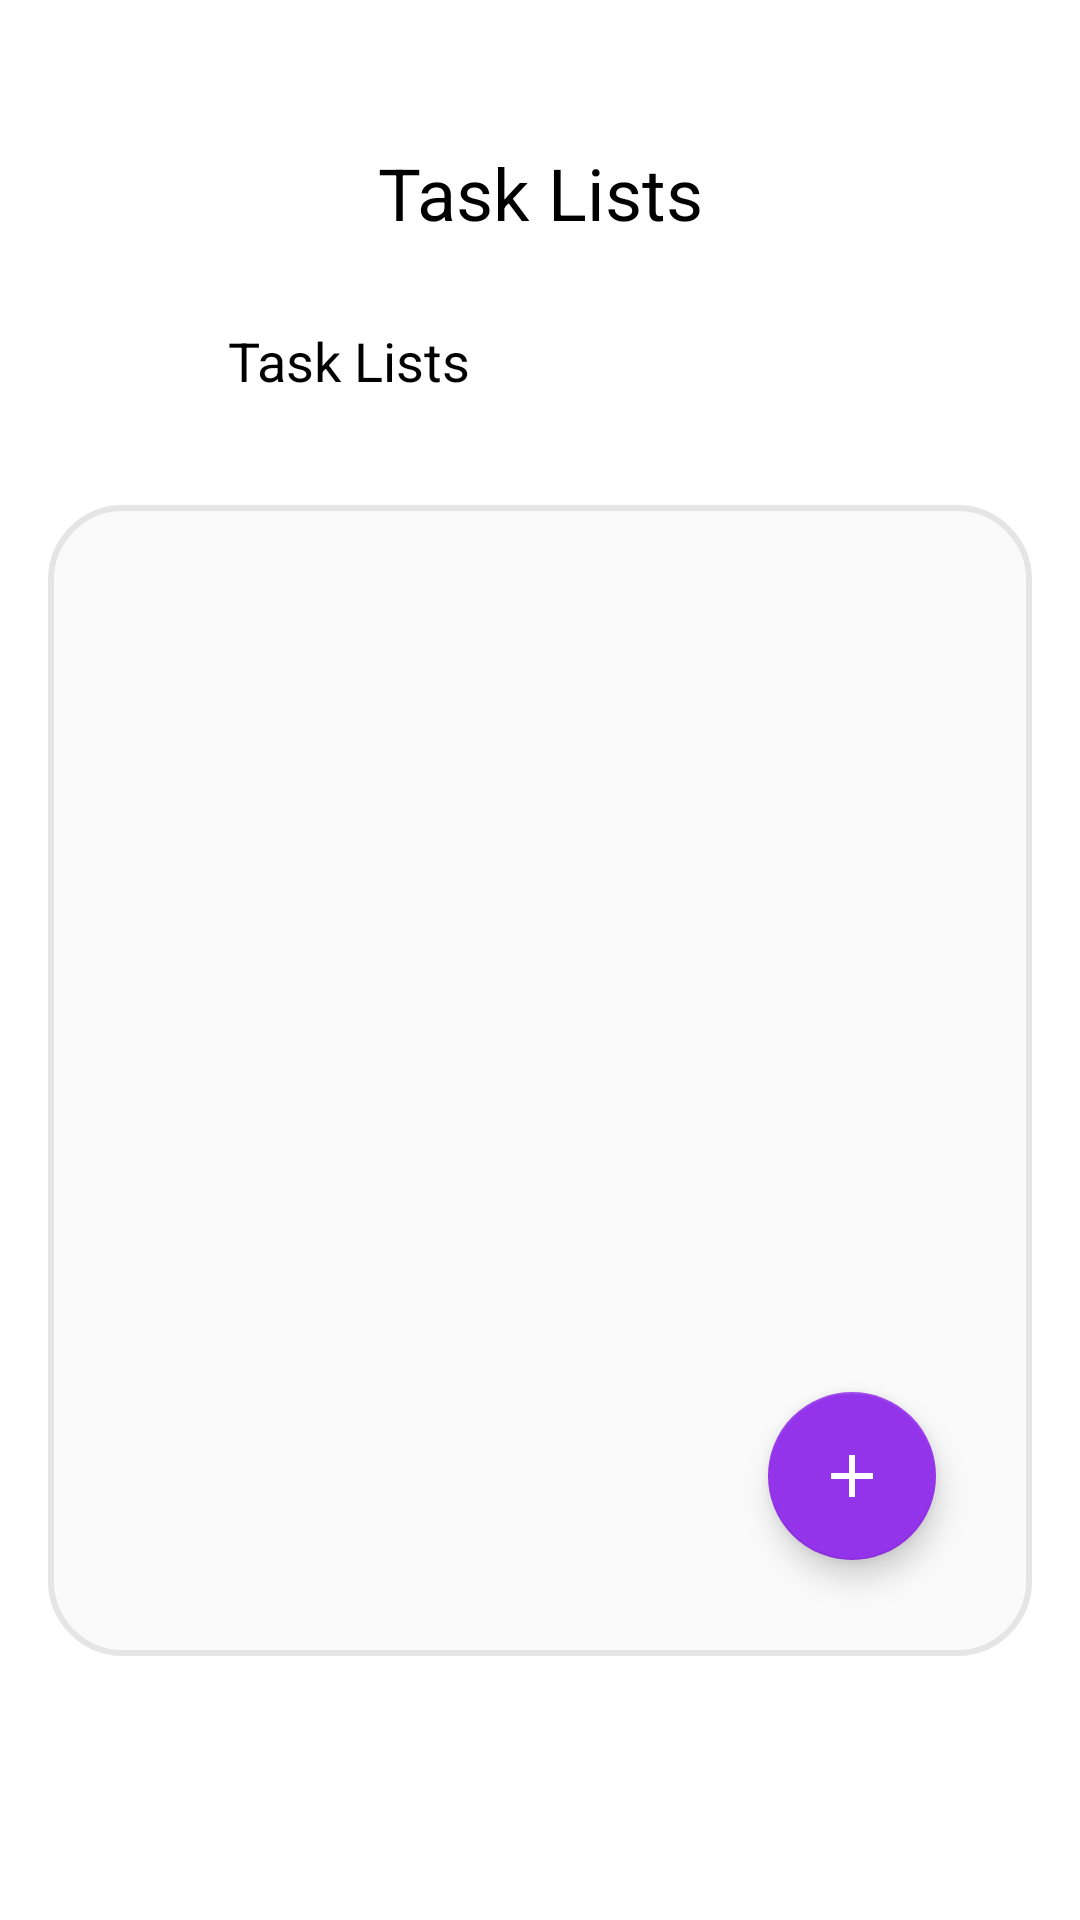

Where to tap for icons on this 1080px x 1920px app screen, as (x=x, y=y):
Add task list: (x=852, y=1476)
